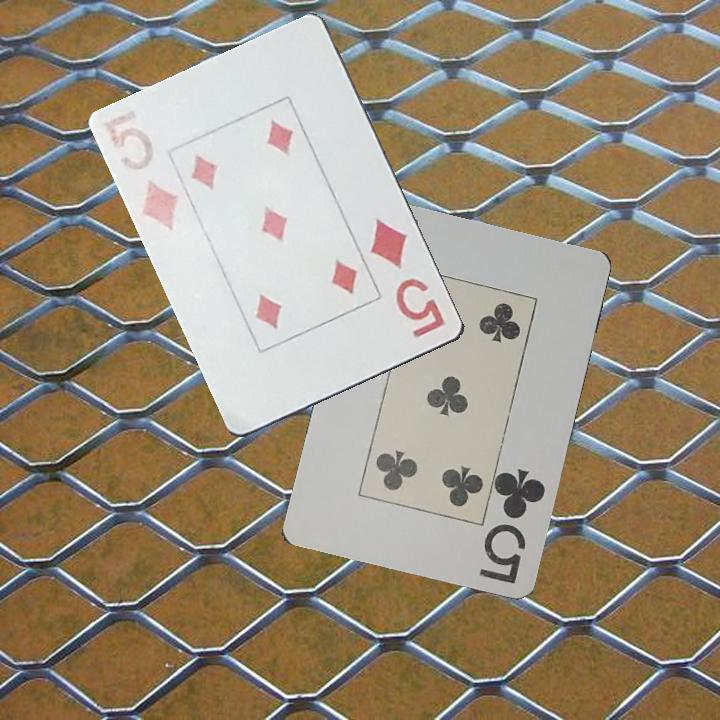5c: (475, 464, 548, 587)
5d: (365, 215, 449, 341), (112, 123, 183, 234)
